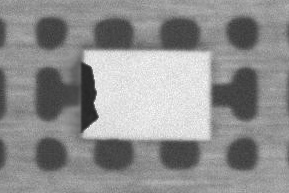DIE_BROKEN: (78, 57, 99, 133)
